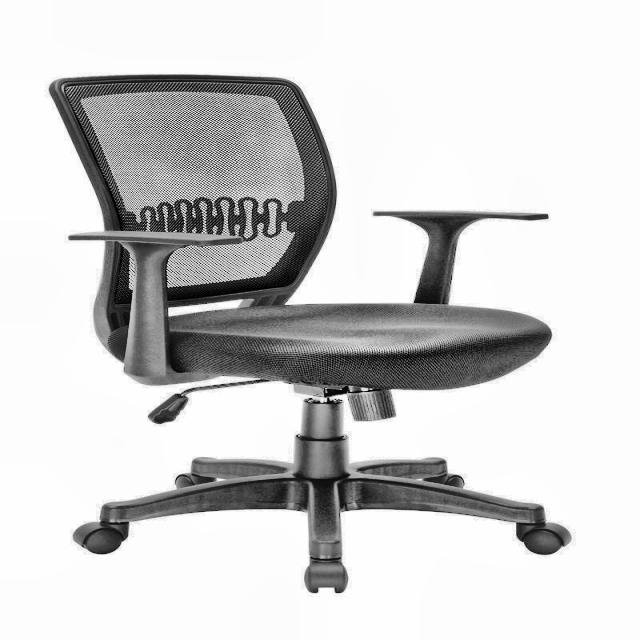cadeira: (41, 68, 570, 598)
